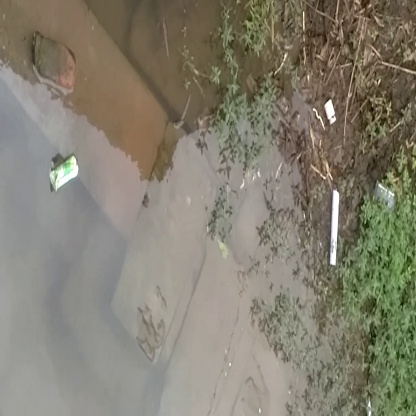milk-box: (45, 146, 89, 197)
